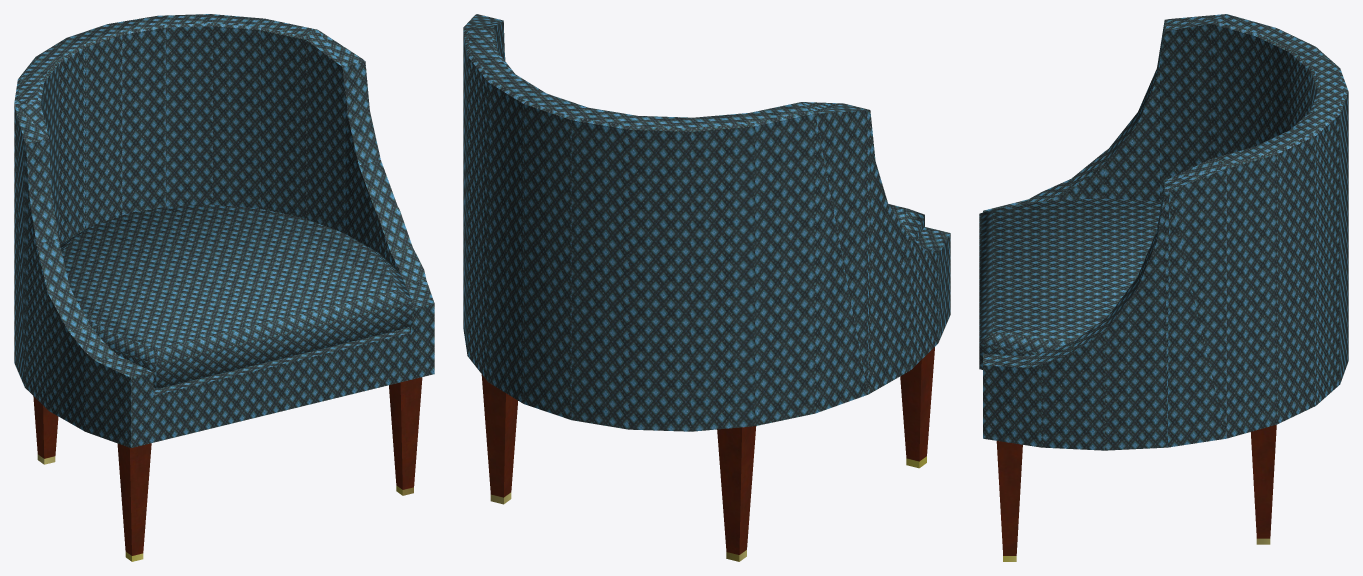
File: oldBlueChair.fbx
3 renders of one model, left to right at view 1: azimuth 30°, elevation 25°; view 2: azimuth 150°, elevation 25°; view 3: azimuth 270°, elevation 25°, orthographic. The views are drawn at different scales.
Parts seen in each view (by area): view 1: Proj_ChairRoundedBack_Arms_COM_Interior_Furn_ChairArm0203_39, Proj_ChairRoundedBack_Arms_GRP_36236_Carpet_Diamond_Red, Proj_ChairRoundedBack_Arms_COM_Group_1_36237_Wood_Cherry; view 2: Proj_ChairRoundedBack_Arms_COM_Interior_Furn_ChairArm0203_39, Proj_ChairRoundedBack_Arms_COM_Group_1_36237_Wood_Cherry, Proj_ChairRoundedBack_Arms_GRP_36236_Carpet_Diamond_Red; view 3: Proj_ChairRoundedBack_Arms_COM_Interior_Furn_ChairArm0203_39, Proj_ChairRoundedBack_Arms_GRP_36236_Carpet_Diamond_Red, Proj_ChairRoundedBack_Arms_COM_Group_1_36237_Wood_Cherry.
Boxes of the visible parts, box(x1,y1,x2,y2) form: Proj_ChairRoundedBack_Arms_COM_Interior_Furn_ChairArm0203_39: box(14, 14, 434, 447); Proj_ChairRoundedBack_Arms_GRP_36236_Carpet_Diamond_Red: box(60, 204, 412, 388); Proj_ChairRoundedBack_Arms_COM_Group_1_36237_Wood_Cherry: box(33, 377, 422, 555); Proj_ChairRoundedBack_Arms_COM_Interior_Furn_ChairArm0203_39: box(463, 14, 950, 431); Proj_ChairRoundedBack_Arms_COM_Group_1_36237_Wood_Cherry: box(481, 347, 934, 554); Proj_ChairRoundedBack_Arms_GRP_36236_Carpet_Diamond_Red: box(888, 204, 924, 241); Proj_ChairRoundedBack_Arms_COM_Interior_Furn_ChairArm0203_39: box(983, 14, 1348, 450); Proj_ChairRoundedBack_Arms_GRP_36236_Carpet_Diamond_Red: box(979, 198, 1161, 369); Proj_ChairRoundedBack_Arms_COM_Group_1_36237_Wood_Cherry: box(996, 424, 1276, 555).
Bounding box in the file's own units: 0.7925 × 0.8287 × 0.6921.
Materials: 3 (3 with a texture image).
